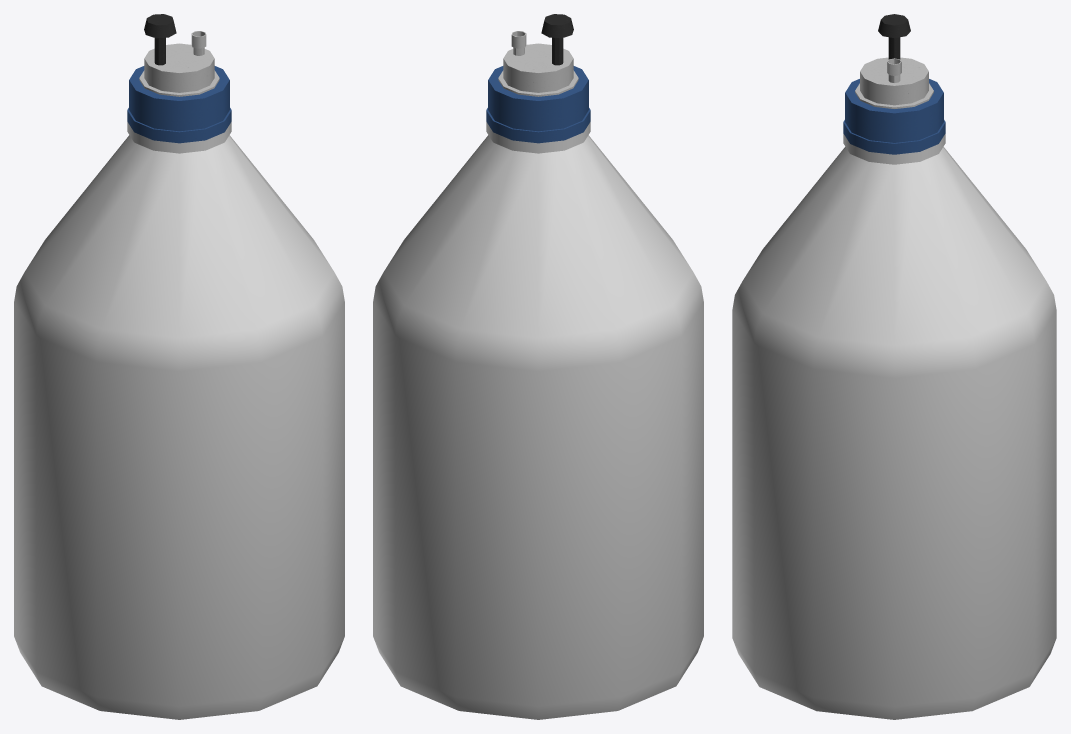
Rendered from SM_流动相储液器.fbx.
3 renders of one model, left to right at view 1: azimuth 30°, elevation 25°; view 2: azimuth 150°, elevation 25°; view 3: azimuth 270°, elevation 25°, orthographic. The views are drawn at different scales.
Parts seen in each view (by area): view 1: SM_流动相储液器; view 2: SM_流动相储液器; view 3: SM_流动相储液器.
Part boxes in pixels (x1,y1,x2,y2): SM_流动相储液器: (14,14,344,719); SM_流动相储液器: (373,14,703,719); SM_流动相储液器: (732,14,1056,719).
Bounding box in the file's own units: 0.0952 × 0.2041 × 0.0952.
